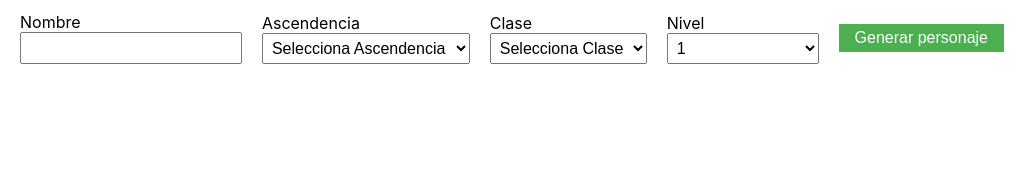
Test case: App › updates character list when a new character is generated
Type "Pepe" into the field labelled "Nombre" at (131,48), box 20,32 -> 242,64
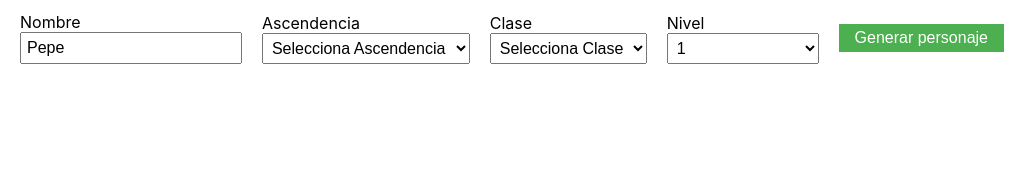
Select "Elfo" in the dropdown labelled "Ascendencia" at (366,48), box 262,32 -> 470,64
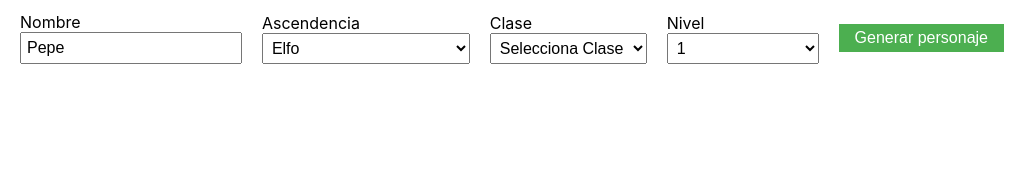
Select "Asesino" in the dropdown labelled "Clase" at (568,48), box 490,32 -> 647,64
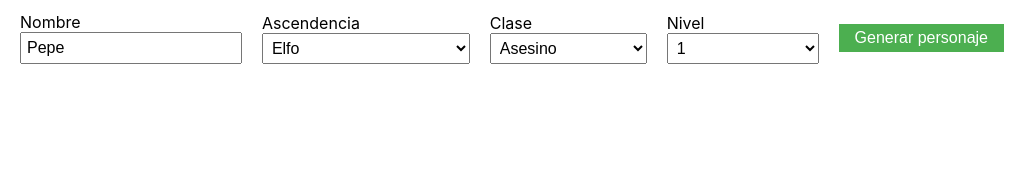
Select "1" in the dropdown labelled "Nivel" at (743,48), box 667,32 -> 819,64
Click the button "Generar personaje" at (921,38), box 839,24 -> 1004,52
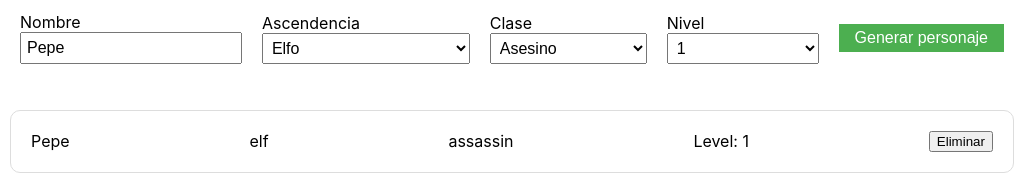
Result: the text "Pepe" is shown at 31,131 -> 70,152
